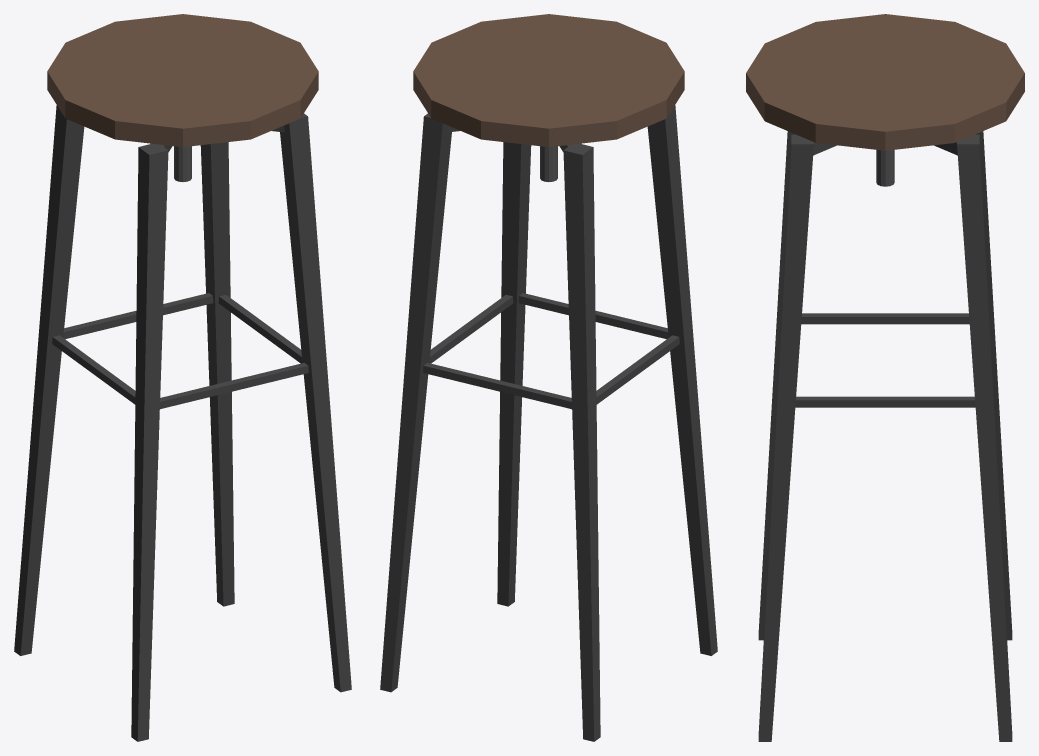
The model's file is Chair_10_C3.fbx.
3 renders of one model, left to right at view 1: azimuth 30°, elevation 25°; view 2: azimuth 150°, elevation 25°; view 3: azimuth 270°, elevation 25°, orthographic. The views are drawn at different scales.
Parts seen in each view (by area): view 1: Chair_10_C3; view 2: Chair_10_C3; view 3: Chair_10_C3.
Part boxes in pixels (x1=…): Chair_10_C3: x1=14, y1=14, x2=351, y2=741; Chair_10_C3: x1=380, y1=14, x2=717, y2=741; Chair_10_C3: x1=746, y1=14, x2=1024, y2=741.
Size of the model in its own units: 37.05 by 90.25 by 37.05.
